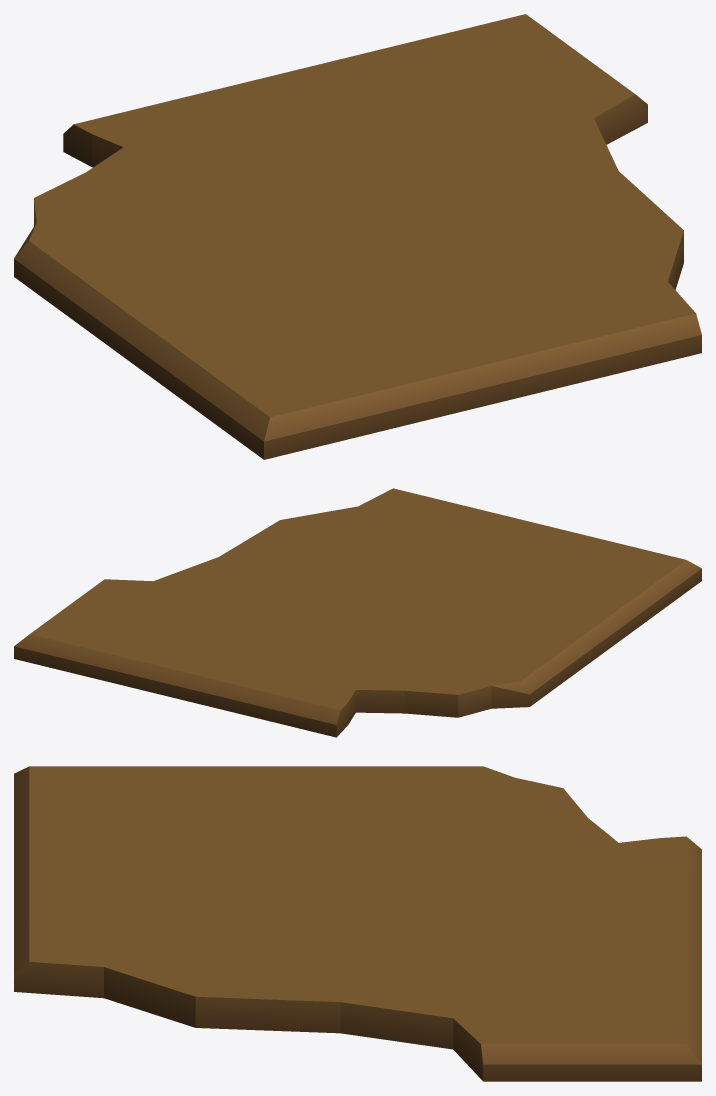
Rendered from Enviroment__Lantai_003.fbx.
3 views of the same model, one above another, from view 1: azimuth 30°, elevation 25°; view 2: azimuth 150°, elevation 25°; view 3: azimuth 270°, elevation 25° (orthographic). The views are drawn at different scales.
Visible parts, largest first — view 1: Plane.002; view 2: Plane.002; view 3: Plane.002.
Part boxes in pixels (x1,y1,x2,y2): Plane.002: (14,14,701,459); Plane.002: (14,488,701,737); Plane.002: (14,766,701,1081).
Bounding box in the file's own units: 20 × 1 × 20.
